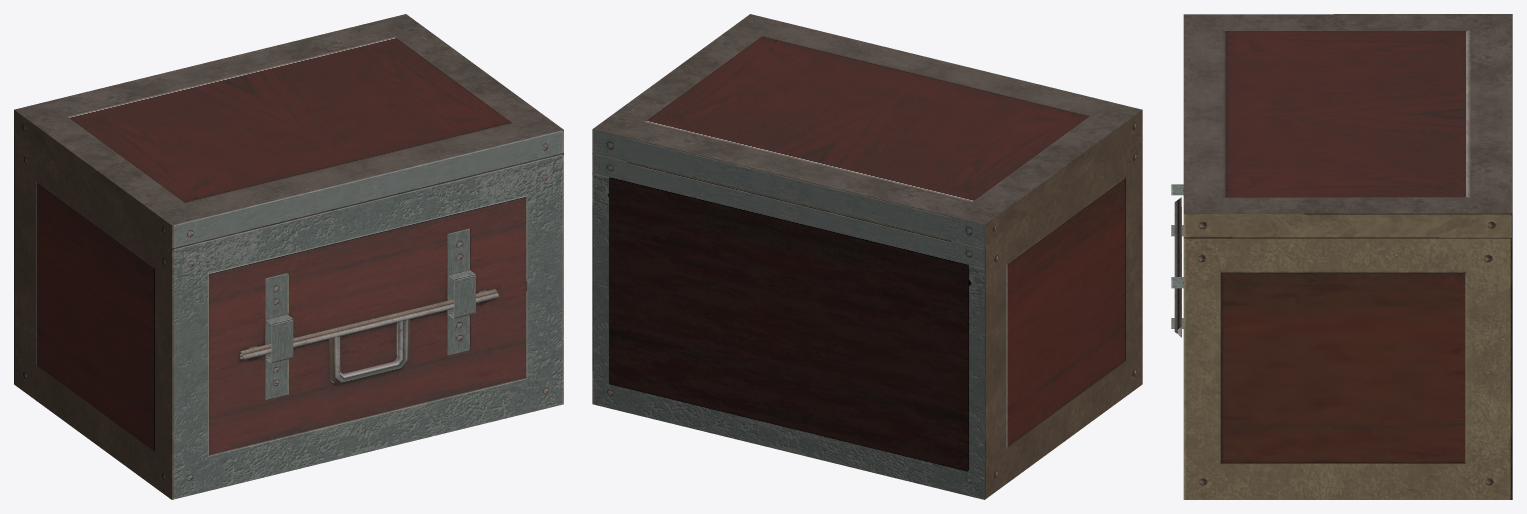
Rendered from StorageBox.fbx.
The picture shows the model from 3 angles, left to right: view 1: azimuth 30°, elevation 25°; view 2: azimuth 150°, elevation 25°; view 3: azimuth 270°, elevation 25°; orthographic projection. The views are drawn at different scales.
Parts seen in each view (by area): view 1: BoxMain, BoxTop; view 2: BoxMain, BoxTop; view 3: BoxMain, BoxTop.
Part boxes in pixels (x1,y1,x2,y2): BoxMain: [14, 133, 563, 499]; BoxTop: [14, 14, 563, 248]; BoxMain: [592, 133, 1142, 499]; BoxTop: [592, 14, 1142, 248]; BoxMain: [1171, 184, 1512, 499]; BoxTop: [1183, 14, 1512, 238].
Size of the model in its own units: 301 by 201 by 218.
Materials: 1 (1 with a texture image).
